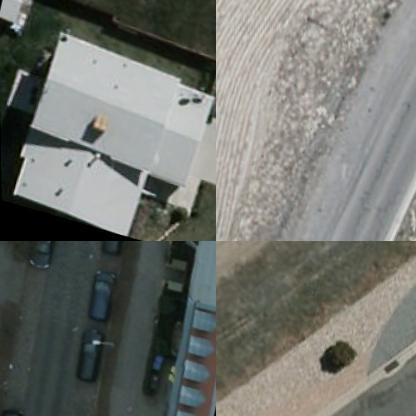car: (72, 326, 108, 386), (84, 265, 121, 321), (27, 241, 65, 267), (96, 241, 128, 257), (0, 409, 27, 415)
